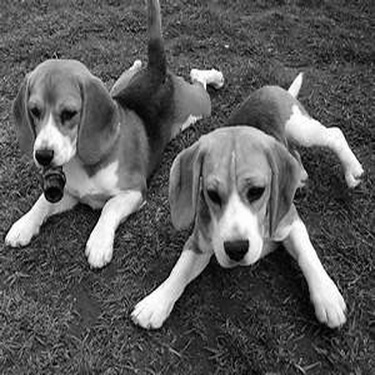dog: (123, 65, 368, 343), (5, 7, 235, 276)
